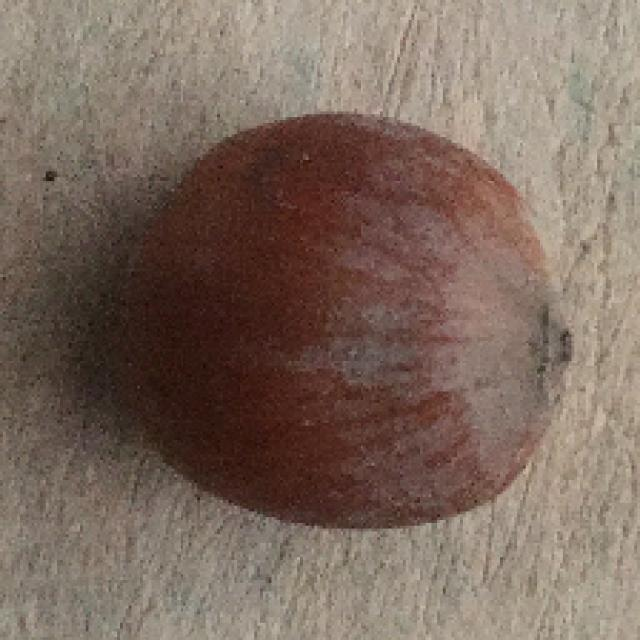qualityHazelnut: (95, 115, 577, 532)
